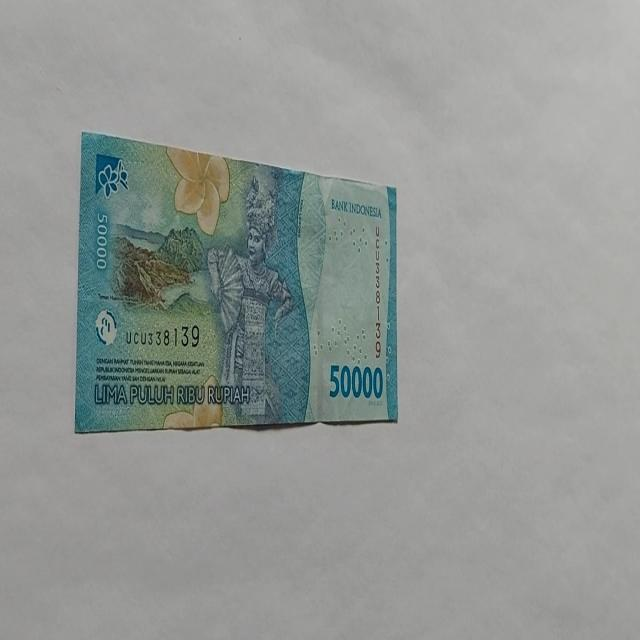lima puluh ribu rupiah: (74, 129, 398, 434)
